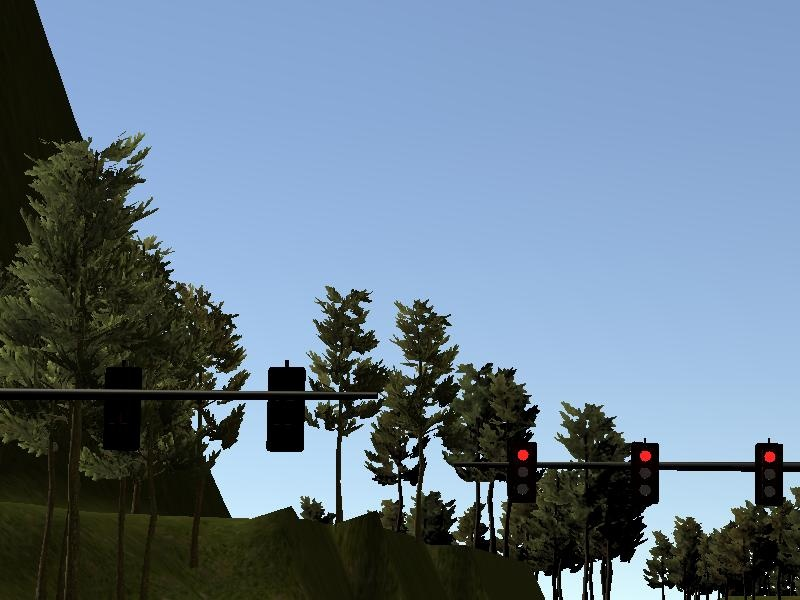traffic_light_red: (484, 440, 800, 505)
